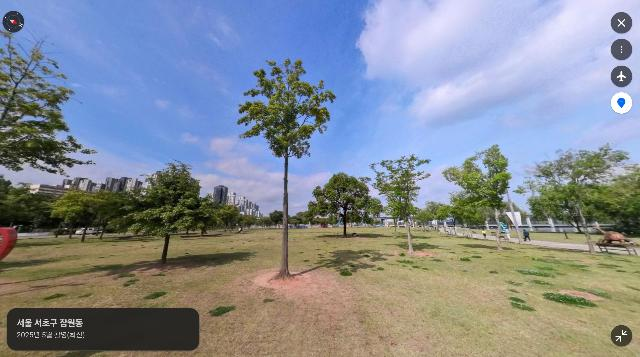other: (236, 57, 337, 283), (0, 27, 98, 180), (513, 141, 634, 254), (111, 159, 221, 263), (441, 143, 514, 252), (360, 152, 434, 254), (304, 171, 388, 238), (55, 190, 123, 243), (213, 205, 242, 234), (425, 200, 447, 234), (264, 210, 291, 233)
